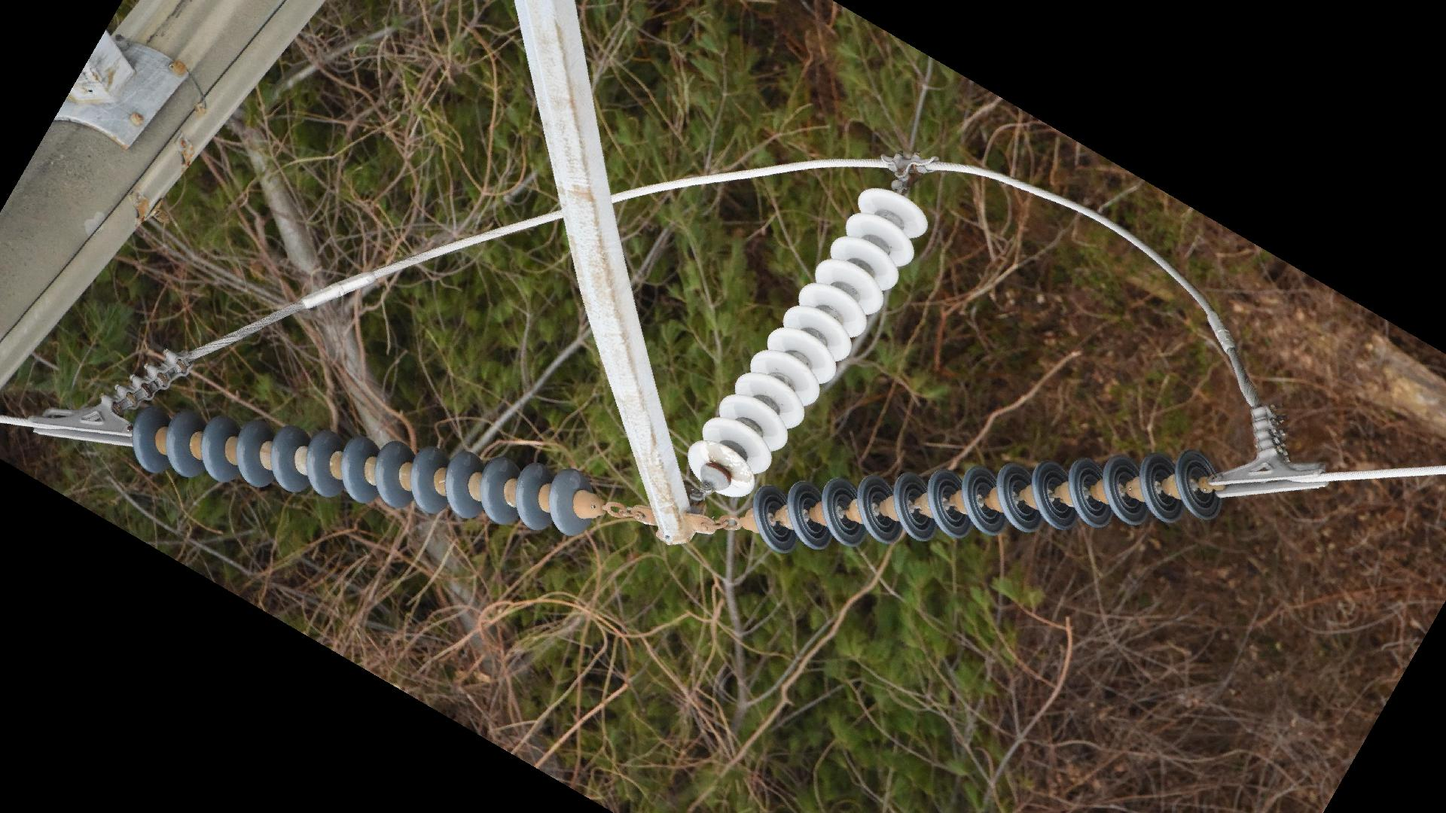insulator: (682, 181, 930, 502), (128, 401, 598, 542), (747, 444, 1226, 558)
insulator_flashover: (701, 438, 754, 484)
